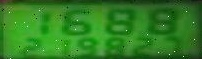-: (133, 29, 146, 35)
1: (33, 5, 51, 34), (57, 36, 70, 56)
2: (130, 35, 155, 56), (17, 36, 39, 56)
6: (60, 6, 91, 36)
7: (159, 36, 184, 55)
8: (146, 6, 177, 33), (104, 6, 133, 33), (102, 36, 124, 55)
9: (73, 36, 97, 55)
